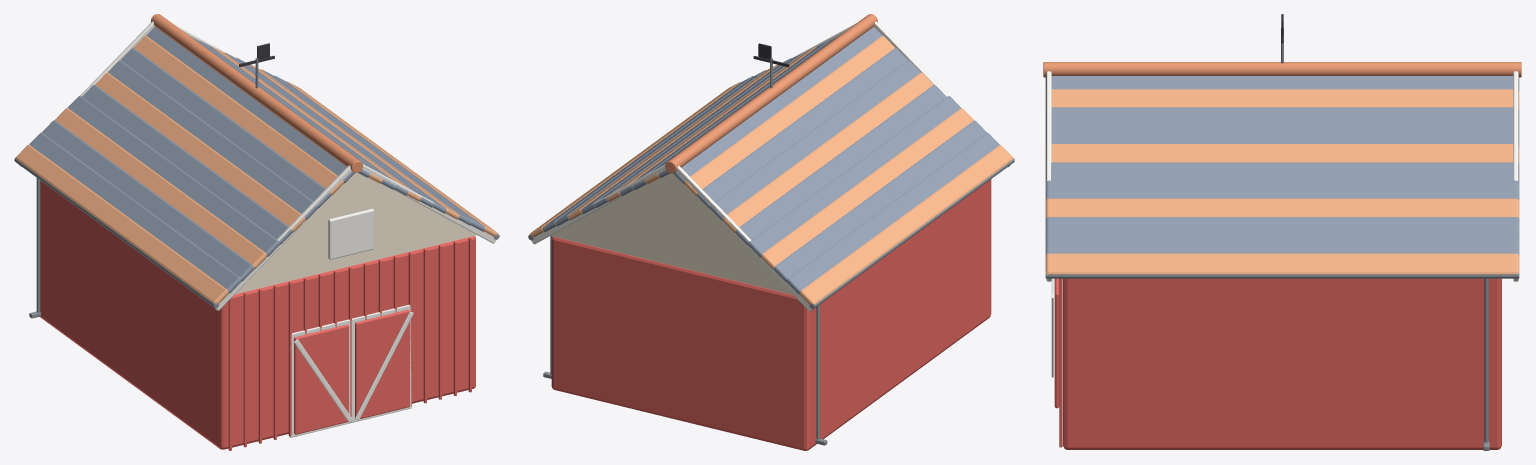
File: barn.fbx
3 views of the same model, side by side, from view 1: azimuth 30°, elevation 25°; view 2: azimuth 150°, elevation 25°; view 3: azimuth 270°, elevation 25° (orthographic). The views are drawn at different scales.
Parts seen in each view (by area): view 1: Visual; view 2: Visual; view 3: Visual.
Part boxes in pixels (bbox=[...]): Visual: bbox=[14, 14, 499, 450]; Visual: bbox=[528, 14, 1014, 450]; Visual: bbox=[1043, 14, 1521, 450].
Size of what is drawn, in the model's own units: 893 by 920 by 1090.
